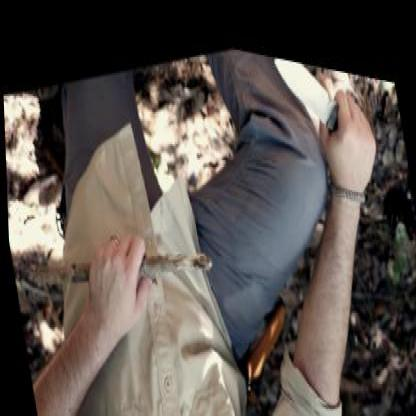knife: (270, 45, 373, 168)
